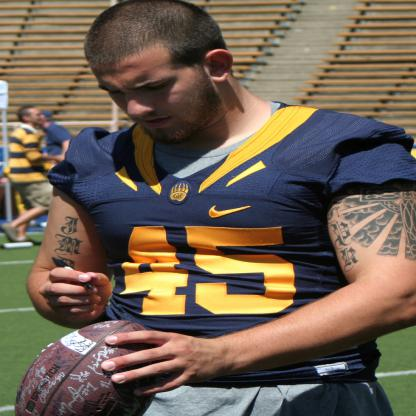Ball: (14, 322, 155, 416)
